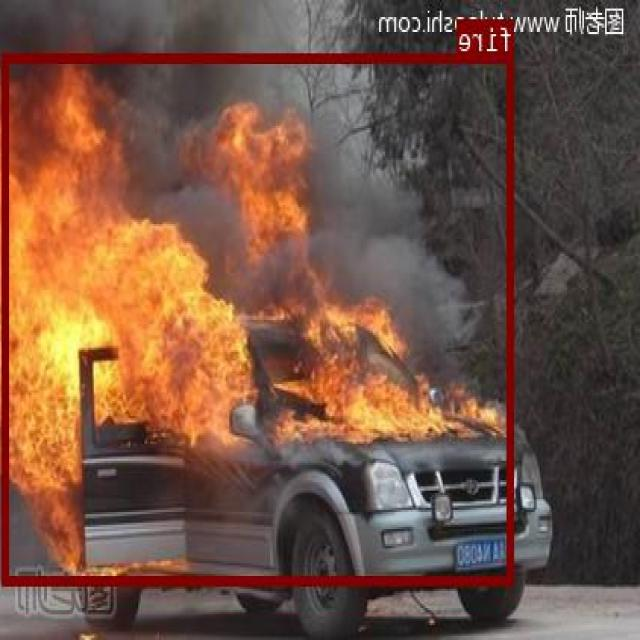fire: (4, 52, 514, 584)
